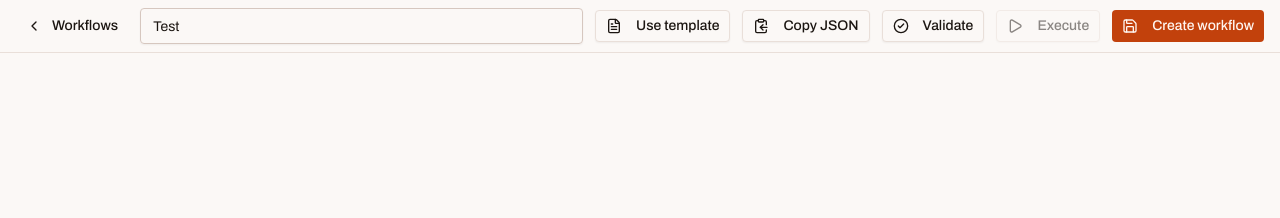
BuilderToolbar › Use template dropdown › lists every built-in template when opened
Click the button "Use template".
click(663, 26)  # box [595,10,730,42]
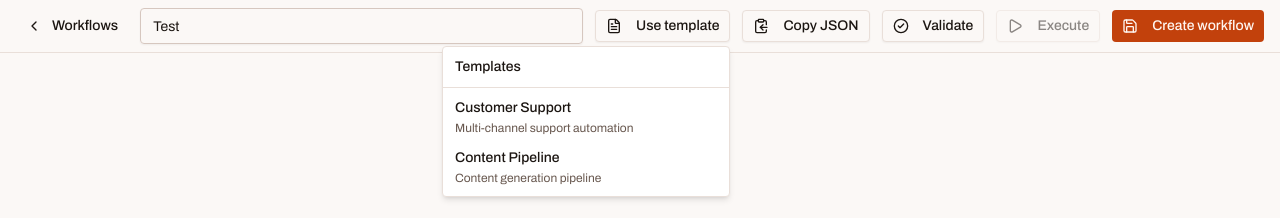
Expected: the menu item "Customer Support Multi-channel support automation" is shown, [455,100,634,135]
Expected: the menu item "Content Pipeline Content generation pipeline" is shown, [455,150,601,185]
